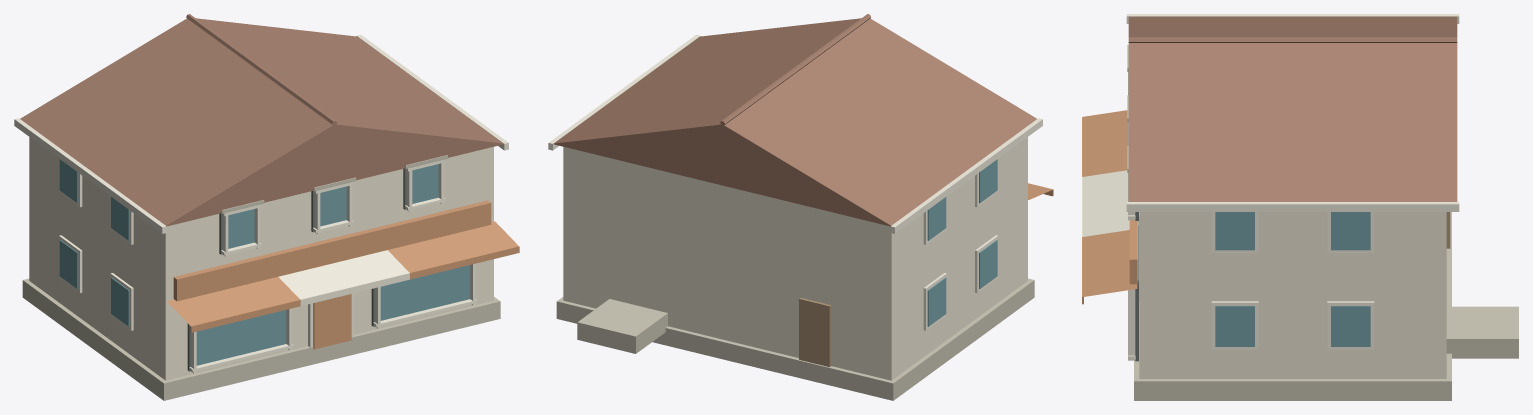
3 views of the same model, side by side, from view 1: azimuth 30°, elevation 25°; view 2: azimuth 150°, elevation 25°; view 3: azimuth 270°, elevation 25° (orthographic). The views are drawn at different scales.
Size of the model in its own units: 12.46 by 8.26 by 12.09.
